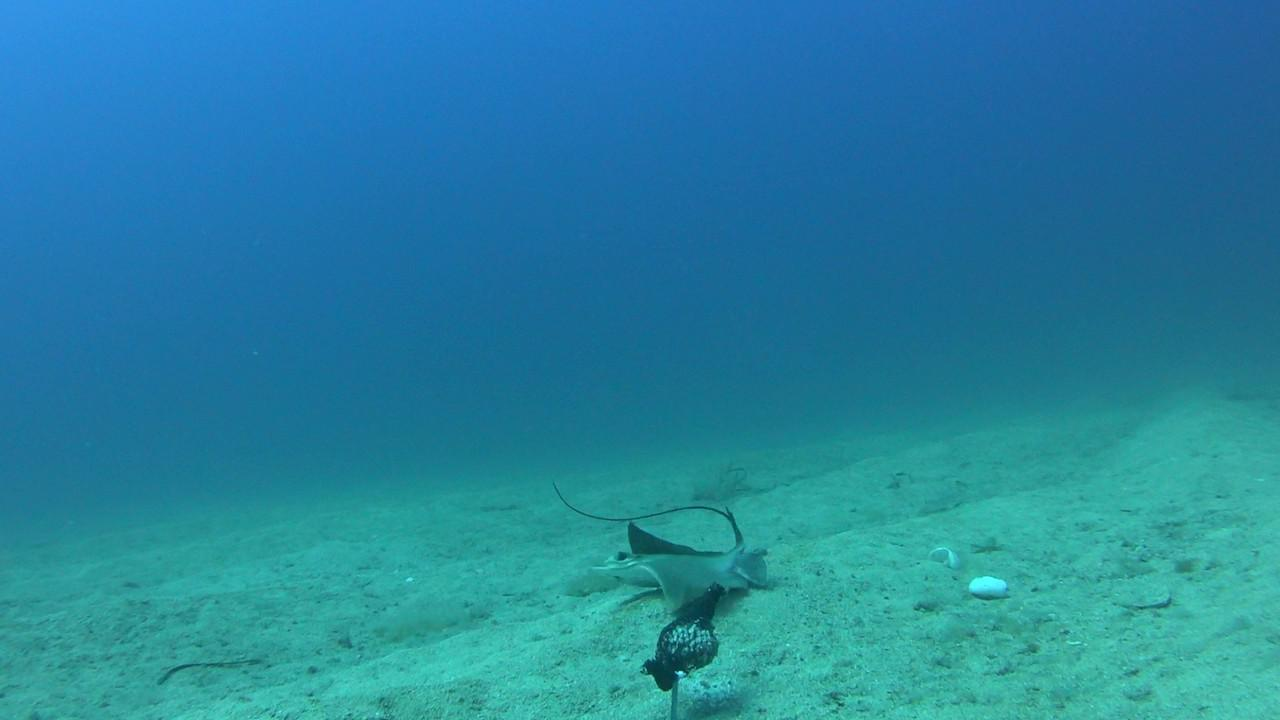myliobatis: (536, 470, 780, 607)
